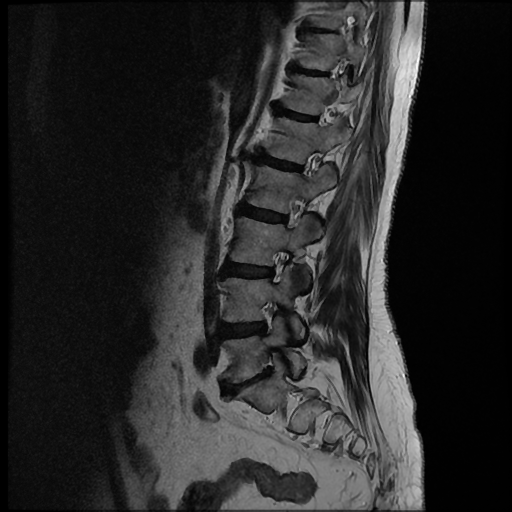RFS0: (260, 242, 296, 288), (275, 193, 310, 237), (293, 143, 327, 188), (252, 292, 283, 340)
